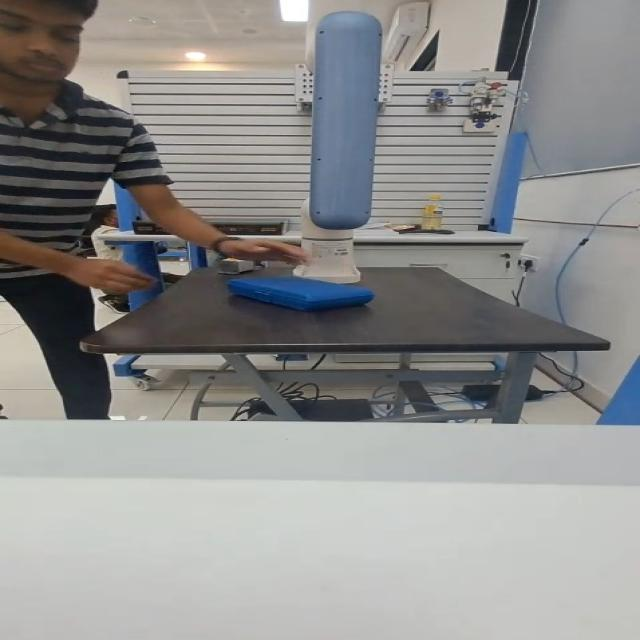top-surface: (254, 277, 341, 290)
